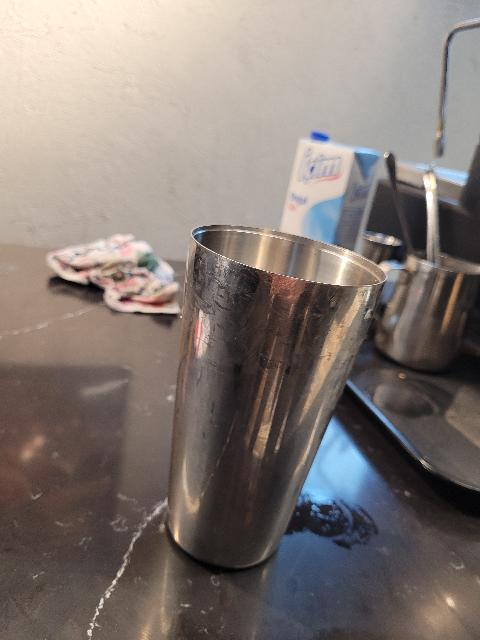Metal: (170, 210, 387, 573)
